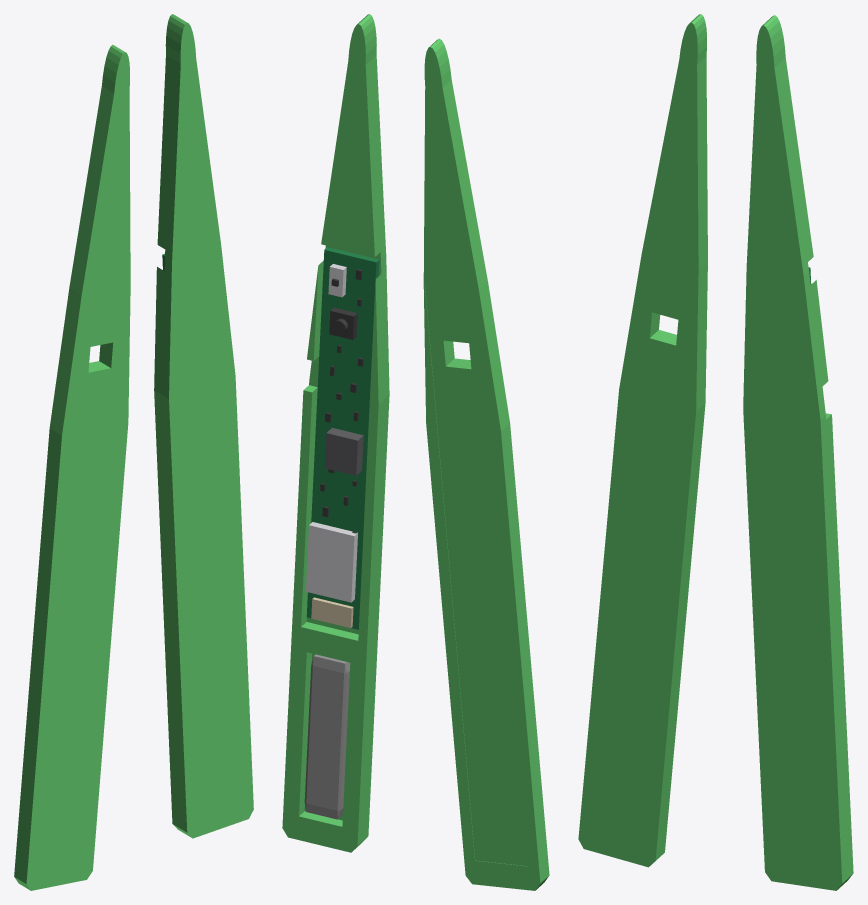
Rendered from chopstickv2.glb.
The picture shows the model from 3 angles, left to right: view 1: azimuth 30°, elevation 25°; view 2: azimuth 150°, elevation 25°; view 3: azimuth 330°, elevation 25°; orthographic projection. The views are drawn at different scales.
Parts seen in each view (by area): view 1: Chopstick_Body, Chopstick_Lid; view 2: Chopstick_Lid, Chopstick_Body, PCB, Cube, RF_Module, USBC, FPC, BtnBase; view 3: Chopstick_Body, Chopstick_Lid.
Part boxes in pixels (<box>): Chopstick_Body: <box>154,14,253,838</box>; Chopstick_Lid: <box>14,44,130,890</box>; Chopstick_Lid: <box>423,38,549,890</box>; Chopstick_Body: <box>282,14,389,852</box>; PCB: <box>306,247,379,629</box>; Cube: <box>304,654,350,819</box>; RF_Module: <box>306,522,357,602</box>; USBC: <box>324,427,363,475</box>; FPC: <box>311,597,353,627</box>; BtnBase: <box>329,307,357,339</box>; Chopstick_Body: <box>743,15,853,890</box>; Chopstick_Lid: <box>578,14,707,867</box>.
Size of the model in its own units: 0.065 by 0.2126 by 0.0124.
